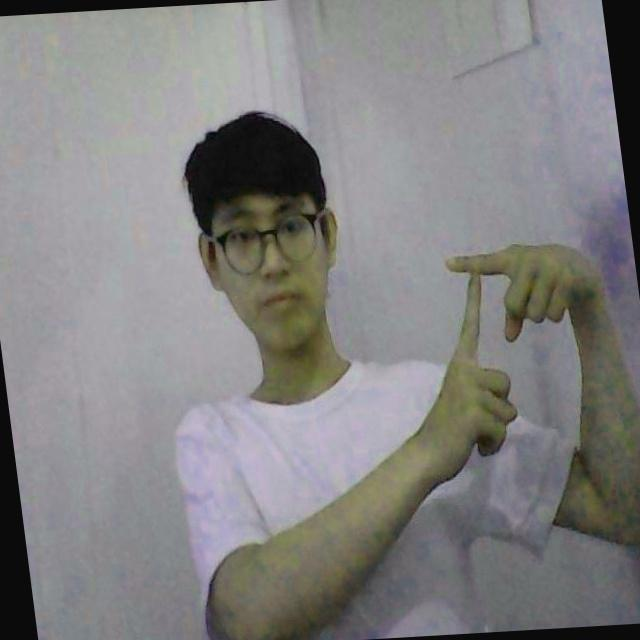T: (439, 243, 544, 455)
